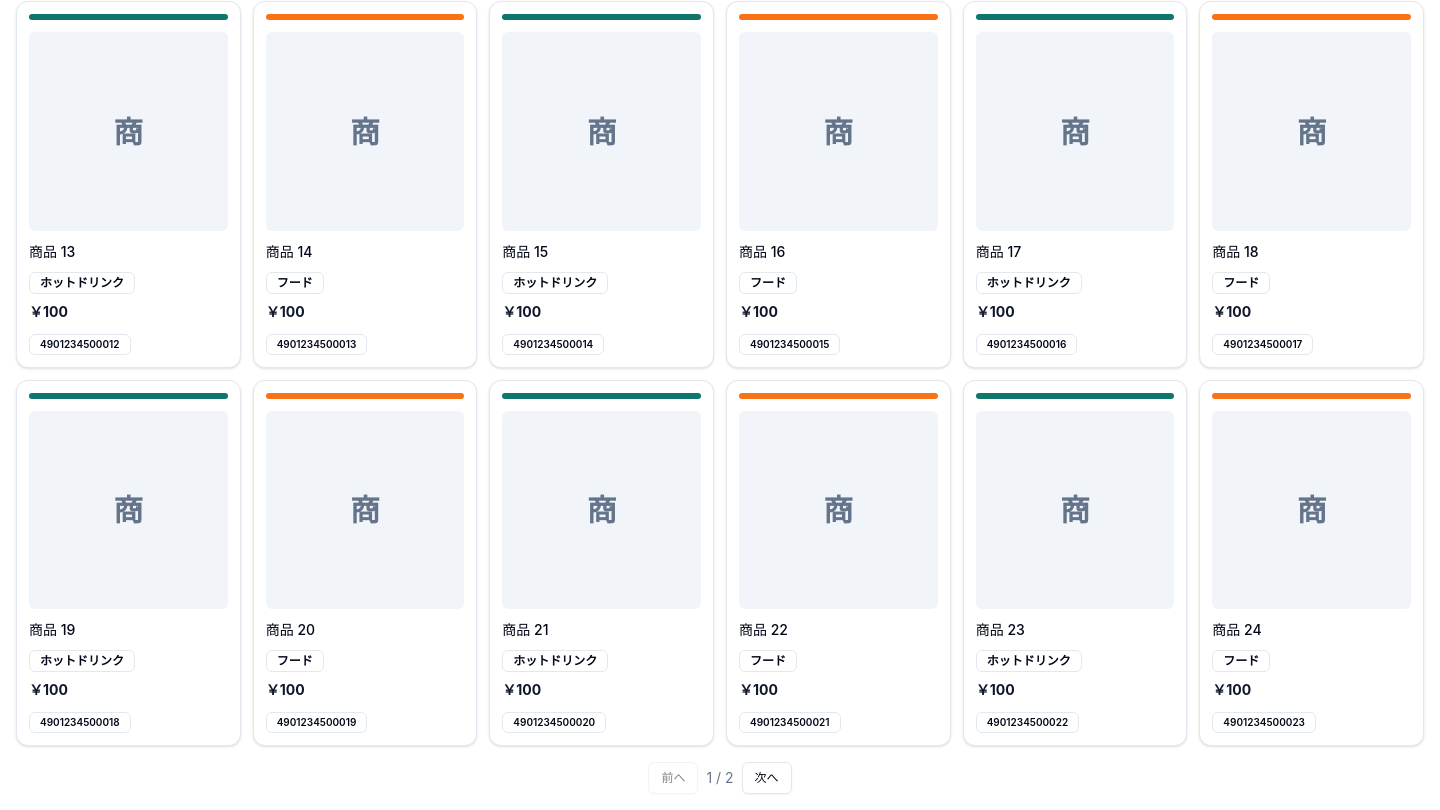
ProductsPage › ローカルページネーションが表示される
The width and height of the screenshot is (1440, 810).
(page scrolled)
Expected: the text "1 / 2" is shown, top-left (706, 768), bottom-right (734, 788)
Click the button "次へ".
click(767, 778)  # box top-left (742, 762), bottom-right (792, 794)
(page scrolled)
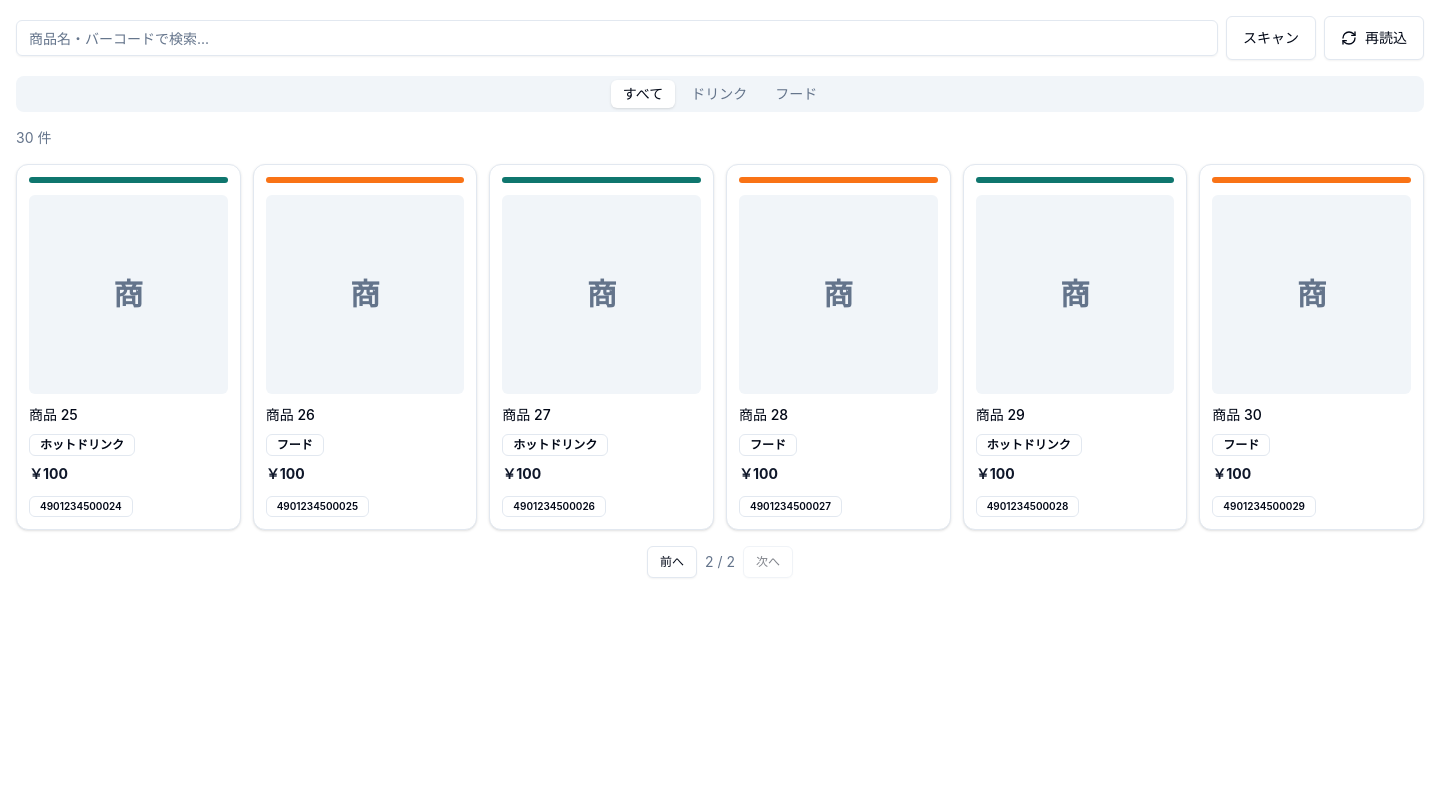
Result: the text "2 / 2" is shown at top-left (705, 552), bottom-right (735, 572)
Result: the text "商品 30" is shown at top-left (1212, 406), bottom-right (1262, 423)
